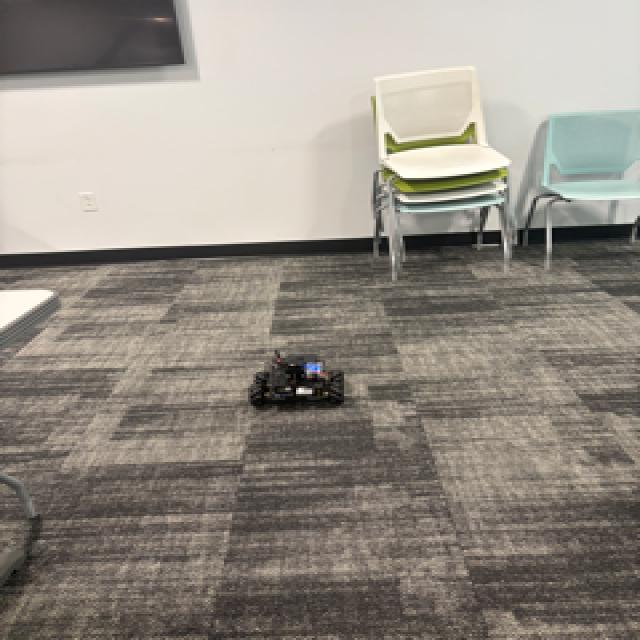ArduinoCar3: (248, 347, 348, 409)
